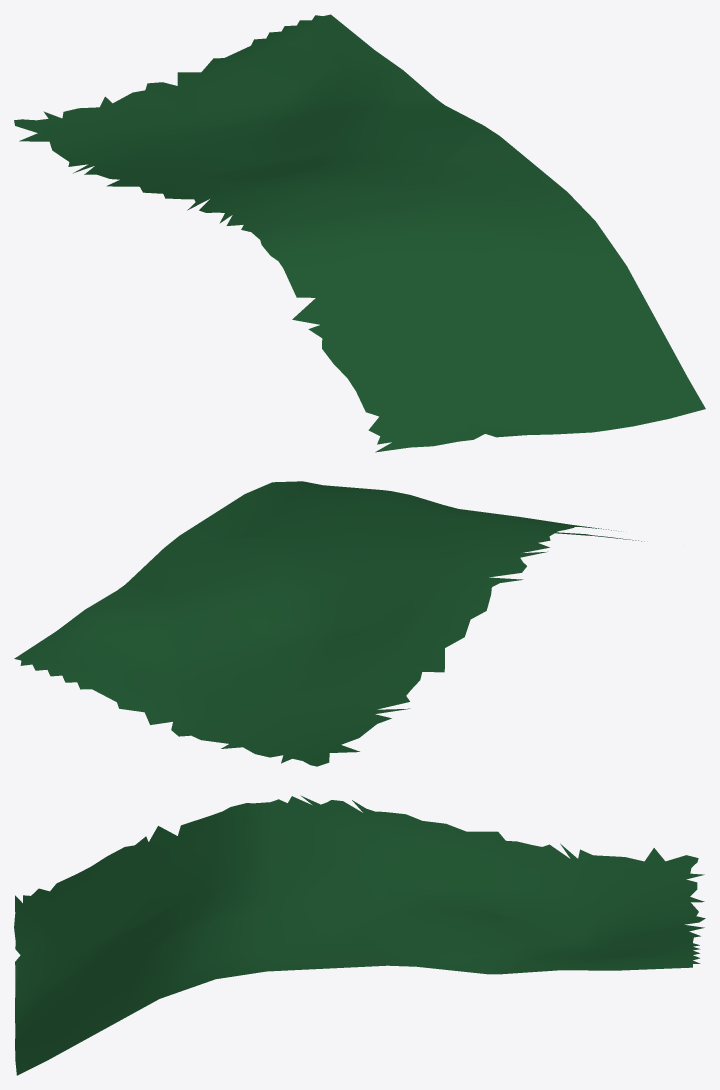
Rendered from payo_land_xm5_ym1_lod2.glb.
3 views of the same model, one above another, from view 1: azimuth 30°, elevation 25°; view 2: azimuth 150°, elevation 25°; view 3: azimuth 270°, elevation 25° (orthographic). The views are drawn at different scales.
Visible parts, largest first — view 1: payo_land_xm5_ym1; view 2: payo_land_xm5_ym1; view 3: payo_land_xm5_ym1.
Boxes of the visible parts, x1,y1,x2,y2 form: payo_land_xm5_ym1: [14, 14, 705, 452]; payo_land_xm5_ym1: [14, 481, 644, 766]; payo_land_xm5_ym1: [14, 795, 705, 1075].
Size of the model in its own units: 131 by 56.46 by 260.
